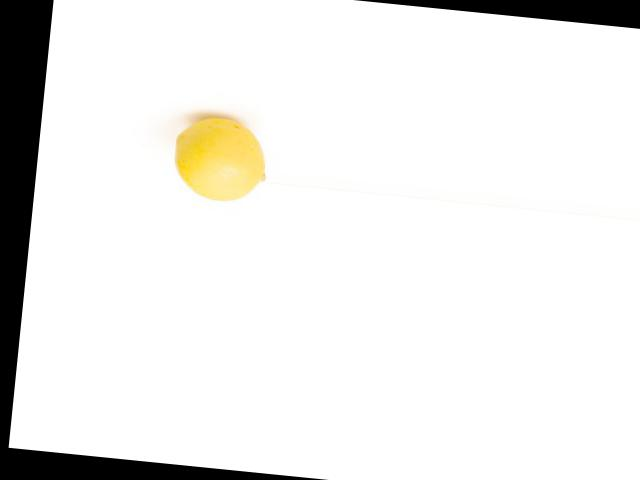lemon: (159, 106, 272, 208)
